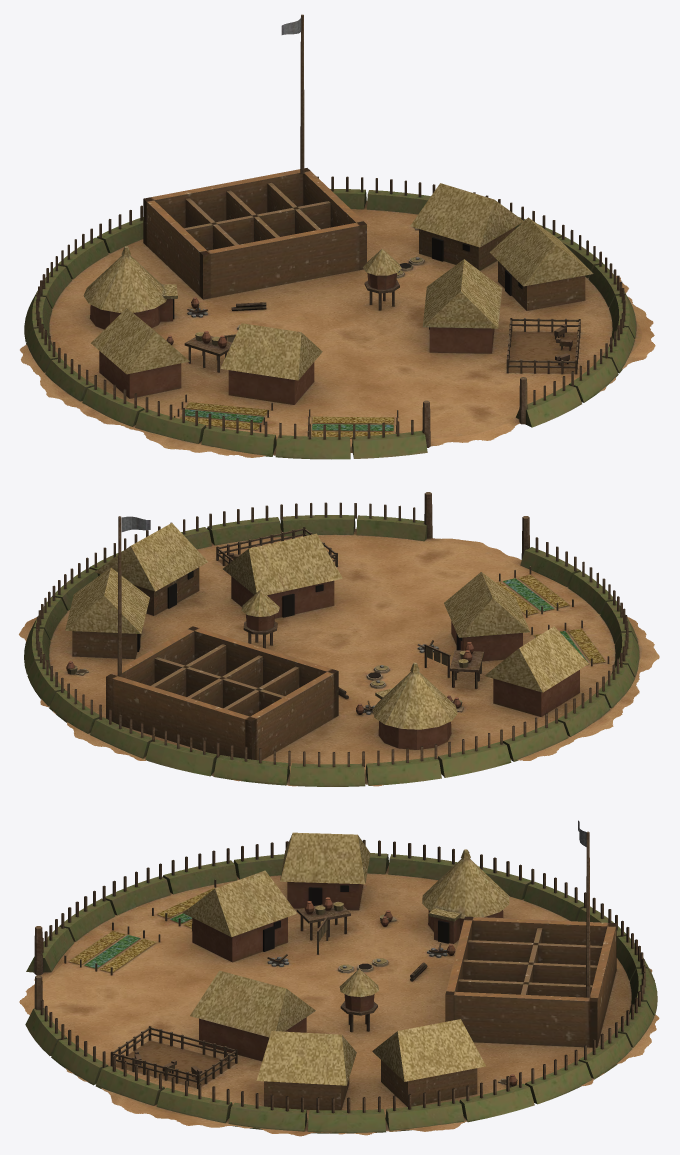
The model's file is stone-town-small-a-indic.glb.
3 renders of one model, top to bottom at view 1: azimuth 30°, elevation 25°; view 2: azimuth 150°, elevation 25°; view 3: azimuth 270°, elevation 25°, orthographic. The views are drawn at different scales.
Parts seen in each view (by area): view 1: LOD0; view 2: LOD0; view 3: LOD0.
Part boxes in pixels (bbox=[...]): LOD0: bbox=[20, 14, 655, 459]; LOD0: bbox=[19, 492, 659, 786]; LOD0: bbox=[19, 820, 659, 1136].
Size of what is drawn, in the model's own units: 3.97 by 1.4 by 3.84.
Materials: 3 (3 with a texture image).
